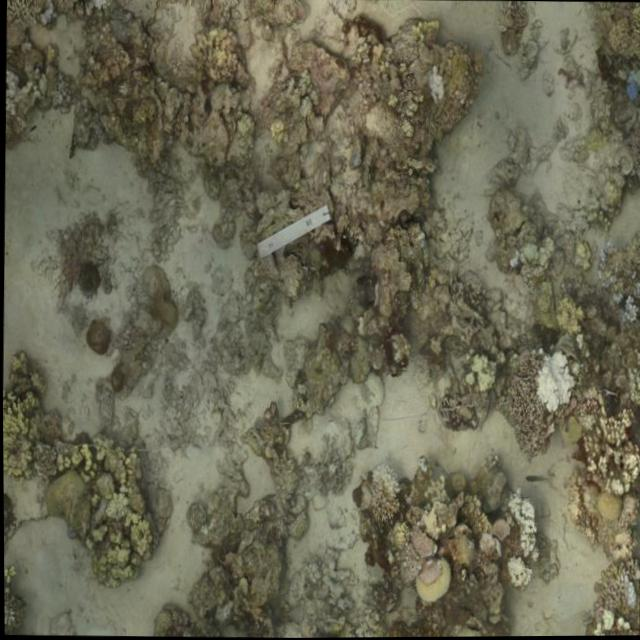Bleached Coral: (523, 344, 580, 418), (504, 479, 538, 550), (419, 62, 451, 108), (500, 553, 531, 595), (604, 289, 640, 320), (610, 572, 639, 610)
